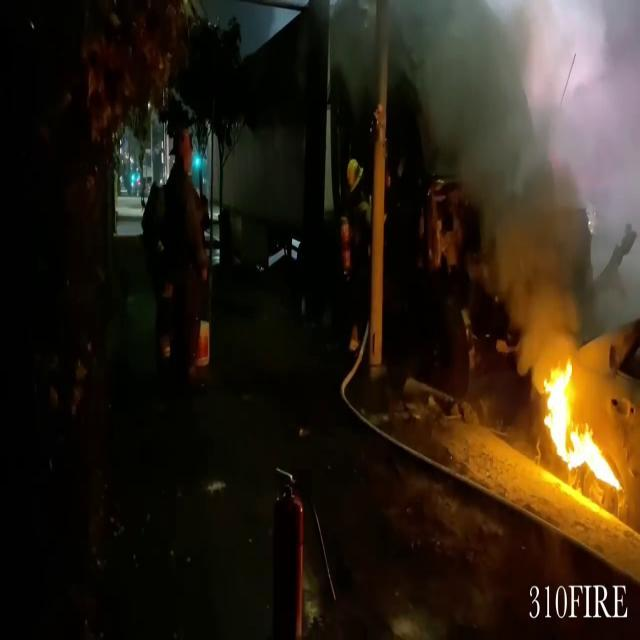Fire: (538, 355, 624, 488)
Smoke: (417, 0, 639, 352)
